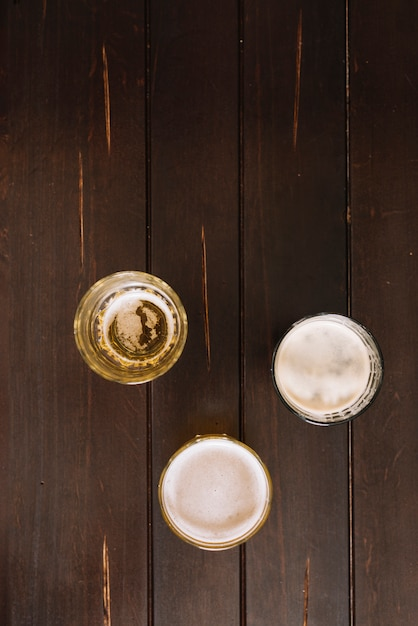alcohol: (68, 266, 190, 388), (150, 436, 278, 552), (265, 313, 384, 427)
